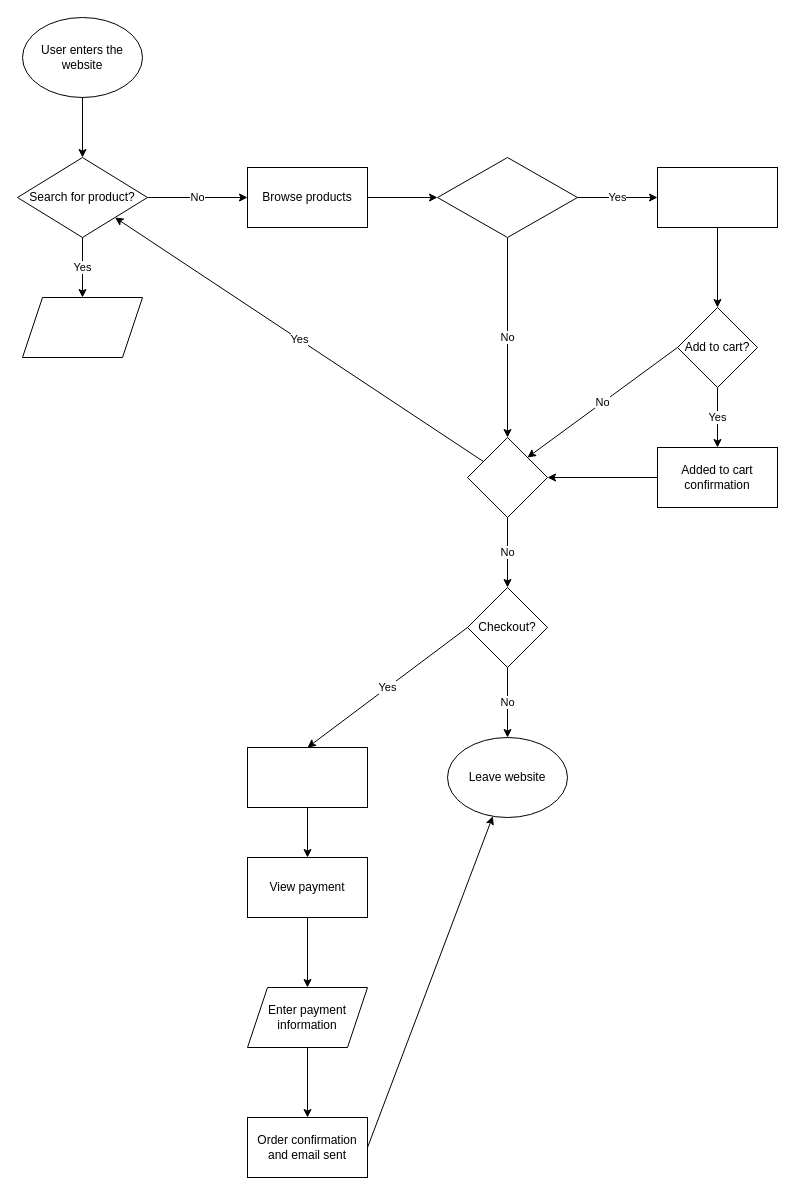
The diagram is 795 pixels wide and 1195 high, and some of its shapes have lost their labels. Each missing label, with the centre of its shape:
"Continue shopping?" belongs at pixel 507 477.
"Enter search input" belongs at pixel 82 327.
"Open product page" belongs at pixel 717 197.
"View cart" belongs at pixel 307 777.
"View specific product?" belongs at pixel 507 197.
